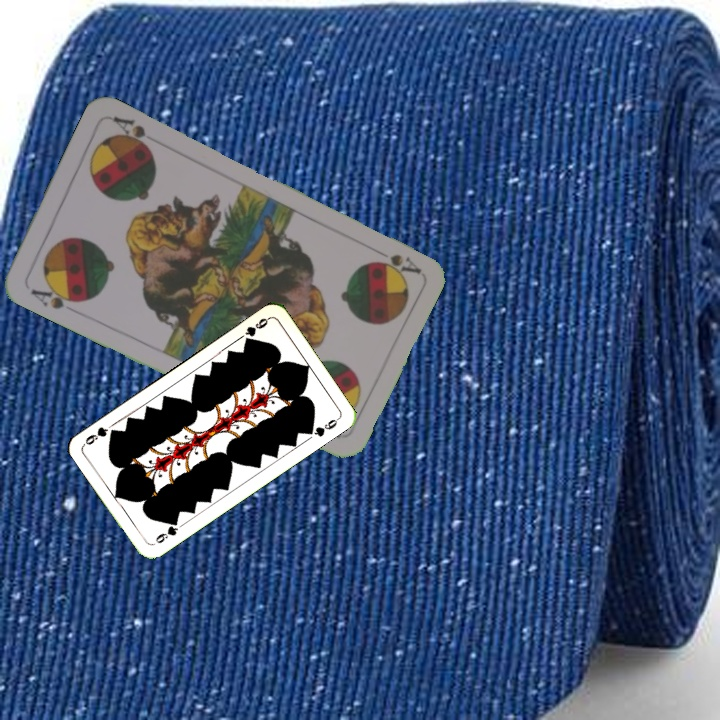G9: (240, 313, 272, 346), (151, 516, 181, 546)
SA: (26, 279, 84, 312), (367, 243, 423, 277)
